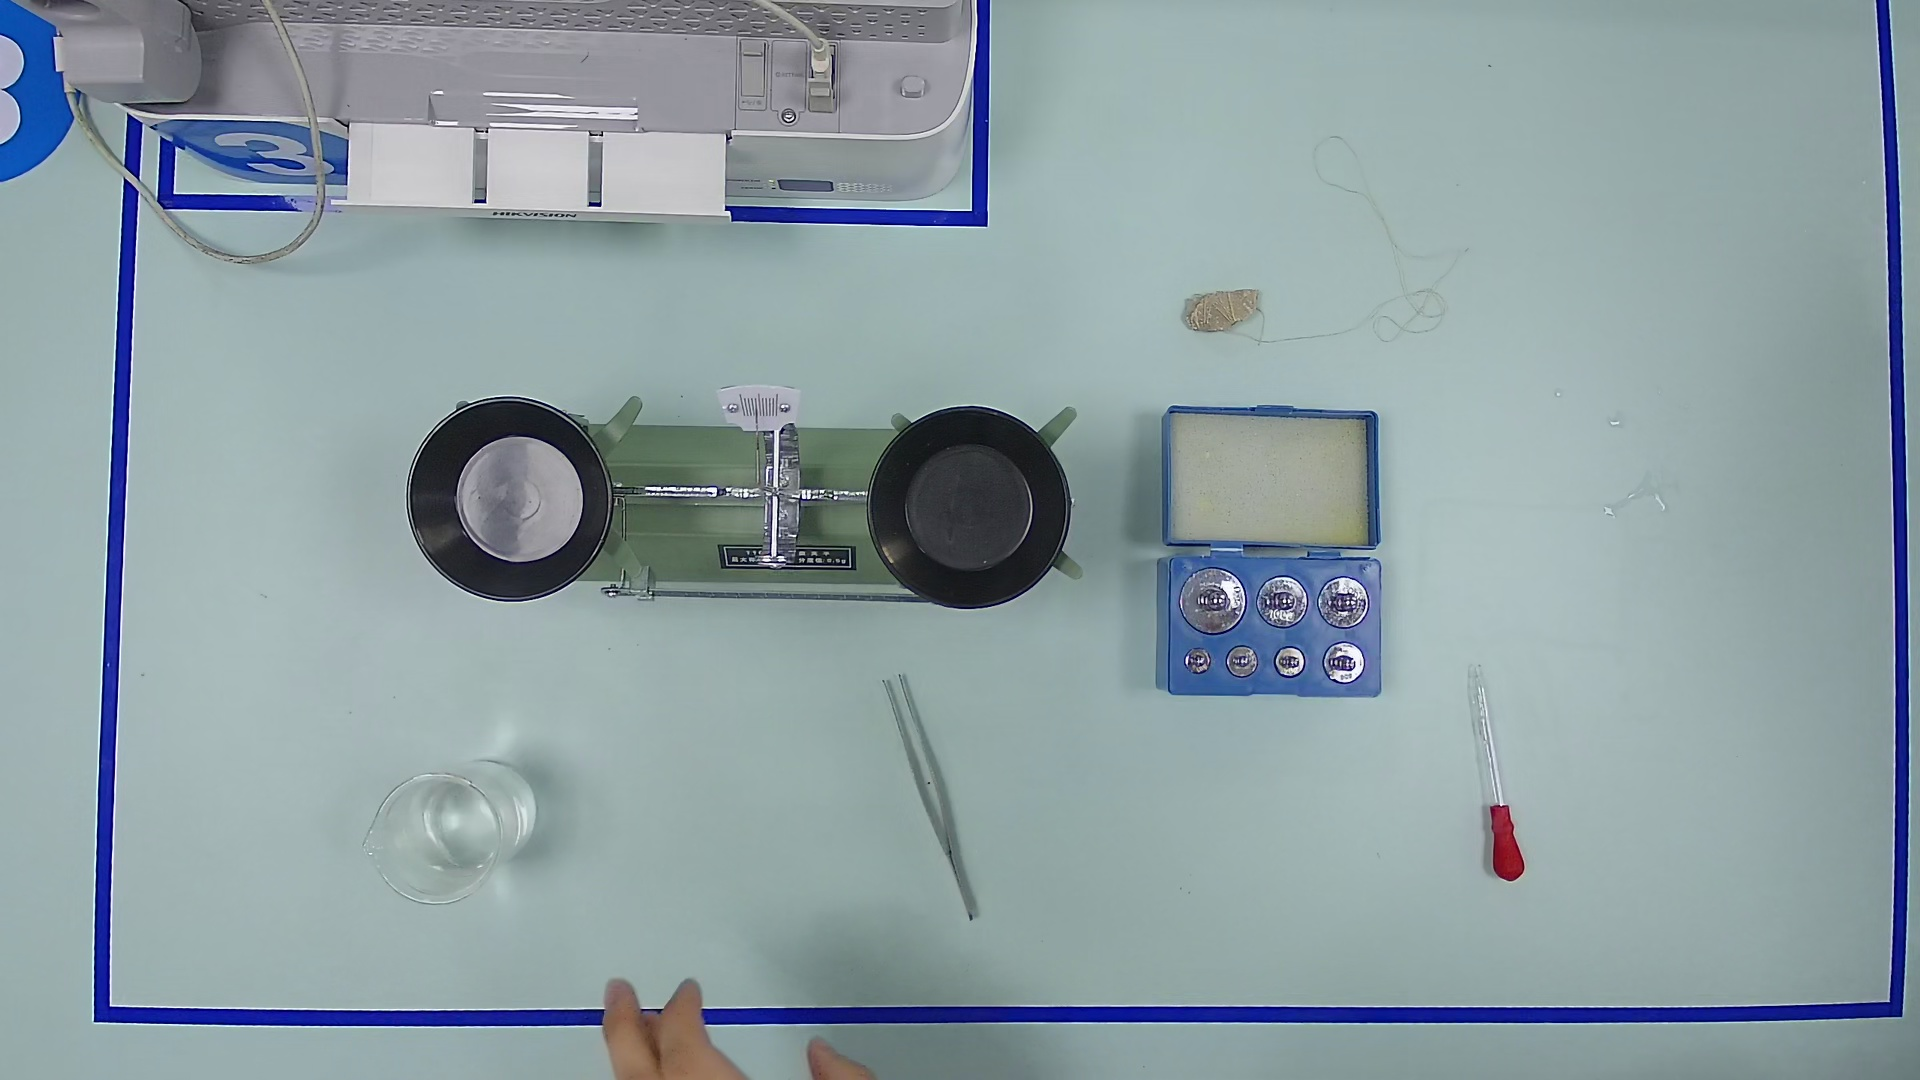bei: (363, 748, 547, 916)
diguan: (1456, 659, 1557, 895)
diguantou: (1476, 793, 1534, 891)
fama: (1176, 563, 1247, 638), (1253, 571, 1313, 632), (1313, 574, 1373, 633), (1320, 640, 1367, 690), (1222, 644, 1262, 682), (1273, 644, 1309, 682), (1183, 645, 1215, 676)
gan: (597, 562, 924, 629)
he: (1109, 516, 1429, 738)
niezi: (849, 669, 1030, 945)
pointer: (720, 384, 798, 429)
shi: (1182, 276, 1270, 344)
tuo: (839, 371, 1091, 628), (389, 375, 641, 624)
you: (622, 559, 661, 611)
